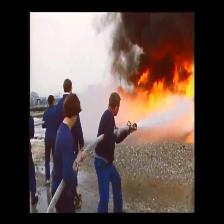fire: (124, 50, 195, 118)
smoke: (120, 15, 195, 39)
